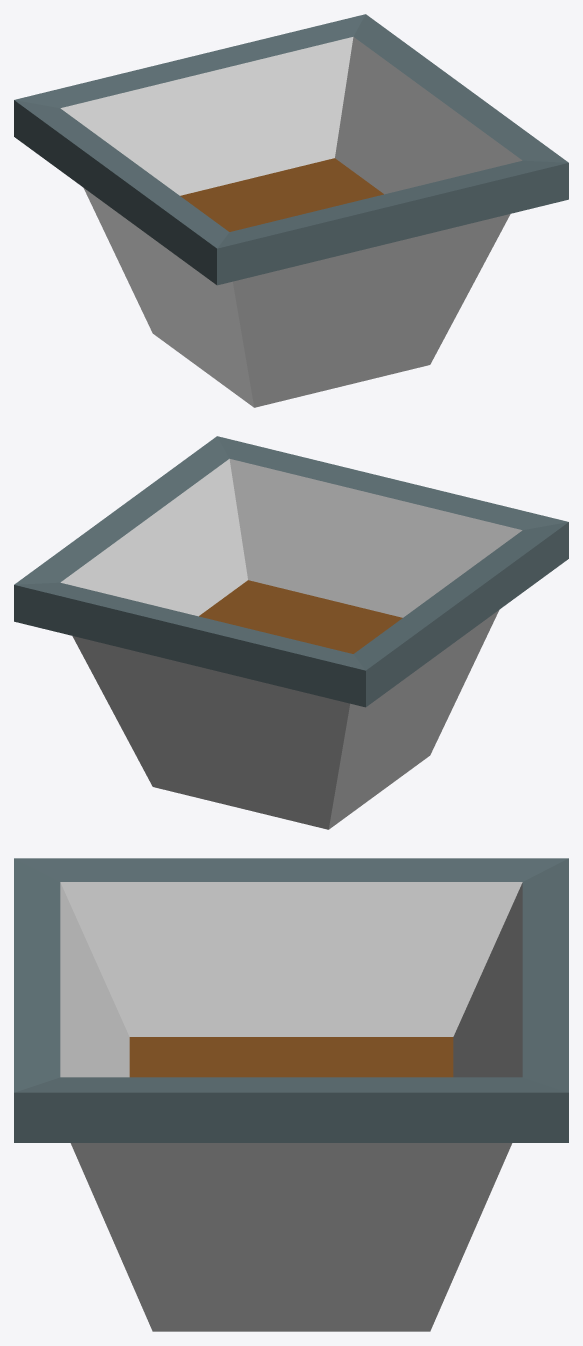
File: scifi_pot.fbx
The picture shows the model from 3 angles, top to bottom: view 1: azimuth 30°, elevation 25°; view 2: azimuth 150°, elevation 25°; view 3: azimuth 270°, elevation 25°; orthographic projection. The views are drawn at different scales.
Visible parts, largest first — view 1: Cube.057, Plane.003; view 2: Cube.057, Plane.003; view 3: Cube.057, Plane.003.
Part boxes in pixels (x1,y1,x2,y2): Cube.057: (14, 14, 568, 407); Plane.003: (180, 158, 383, 231); Cube.057: (14, 436, 568, 829); Plane.003: (199, 580, 402, 653); Cube.057: (14, 858, 568, 1331); Plane.003: (129, 1037, 453, 1077).
Bounding box in the file's own units: 0.6 × 0.355 × 0.6.
